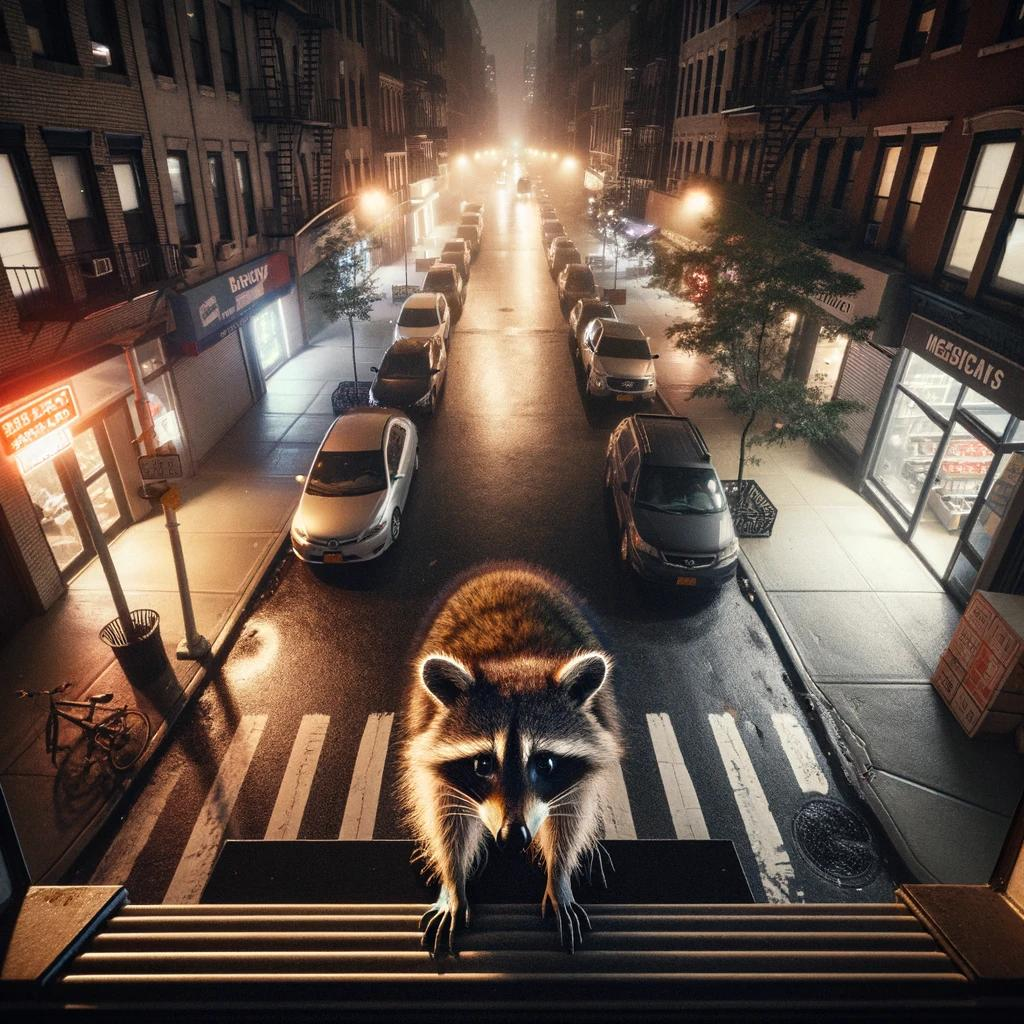raccoon: (382, 548, 630, 927)
